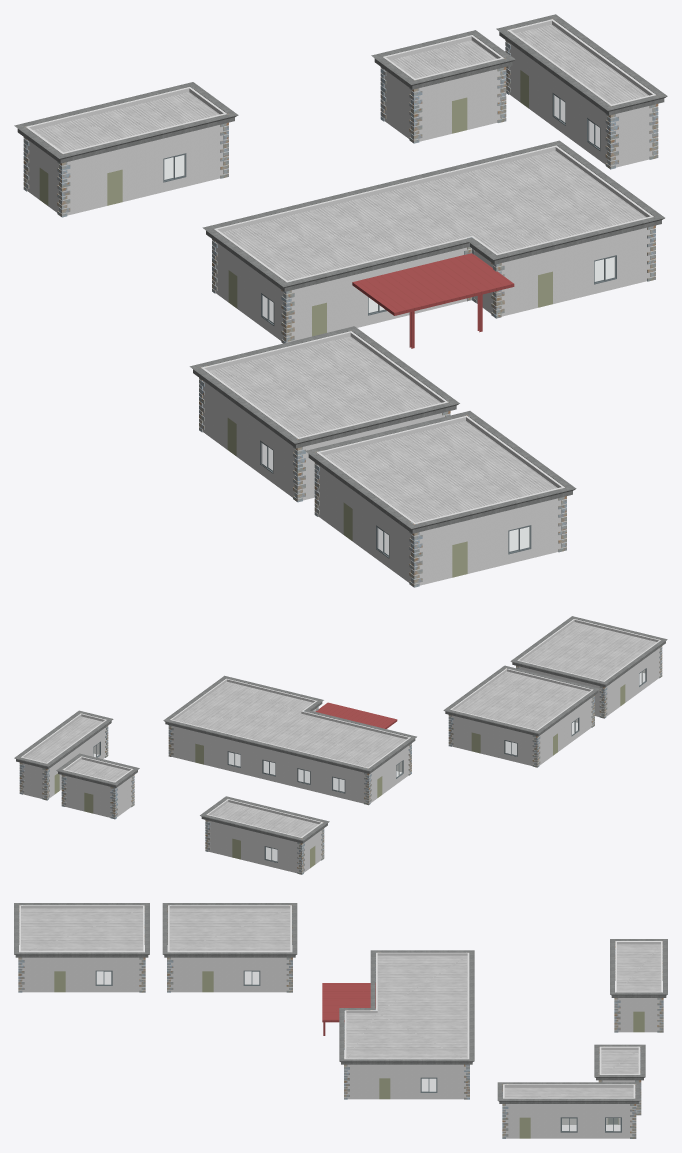
Rendered from Plan(REF)_levels(1)_window(W Sliding2 23_4)_wall(WAFRA WALL)_quoin(Y)_cornice(Y).fbx.
3 renders of one model, top to bottom at view 1: azimuth 30°, elevation 25°; view 2: azimuth 150°, elevation 25°; view 3: azimuth 270°, elevation 25°, orthographic. The views are drawn at different scales.
Visible parts, largest first — view 1: WAFRA Stucco - White Rough 23, WAFRA Roof - Corrugated Sheet Matte 23, Concrete - Structural, WAFRA Stone - Slate Natural 23, WAFRA Roof - Standing Seam Red Coat 23, Color - Beige, Glass - Clear, Metal - Finish - Aluminum, Color - White; view 2: WAFRA Stucco - White Rough 23, WAFRA Roof - Corrugated Sheet Matte 23, Concrete - Structural, WAFRA Stone - Slate Natural 23, Color - Beige, Glass - Clear, WAFRA Roof - Standing Seam Red Coat 23, Metal - Finish - Aluminum, Color - White; view 3: WAFRA Roof - Corrugated Sheet Matte 23, WAFRA Stucco - White Rough 23, Concrete - Structural, WAFRA Stone - Slate Natural 23, WAFRA Roof - Standing Seam Red Coat 23, Color - Beige, Glass - Clear, Metal - Finish - Aluminum, Color - White.
Part boxes in pixels (<box>): WAFRA Stucco - White Rough 23: <box>25,19,656,585</box>; WAFRA Roof - Corrugated Sheet Matte 23: <box>33,24,648,522</box>; Concrete - Structural: <box>14,14,667,533</box>; WAFRA Stone - Slate Natural 23: <box>23,18,658,587</box>; WAFRA Roof - Standing Seam Red Coat 23: <box>352,253,514,348</box>; Color - Beige: <box>39,70,552,577</box>; Glass - Clear: <box>164,95,614,554</box>; Metal - Finish - Aluminum: <box>163,93,616,558</box>; Color - White: <box>24,41,657,584</box>; WAFRA Stucco - White Rough 23: <box>21,619,661,873</box>; WAFRA Roof - Corrugated Sheet Matte 23: <box>25,622,656,836</box>; Concrete - Structural: <box>14,616,667,843</box>; WAFRA Stone - Slate Natural 23: <box>19,618,662,874</box>; Color - Beige: <box>54,684,625,868</box>; Glass - Clear: <box>94,670,644,861</box>; WAFRA Roof - Standing Seam Red Coat 23: <box>315,702,397,728</box>; Metal - Finish - Aluminum: <box>93,668,646,862</box>; Color - White: <box>20,647,661,872</box>; WAFRA Roof - Corrugated Sheet Matte 23: <box>21,908,660,1097</box>; WAFRA Stucco - White Rough 23: <box>19,905,662,1138</box>; Concrete - Structural: <box>14,903,667,1103</box>; WAFRA Stone - Slate Natural 23: <box>18,905,663,1138</box>; WAFRA Roof - Standing Seam Red Coat 23: <box>322,983,375,1035</box>; Color - Beige: <box>54,971,644,1138</box>; Glass - Clear: <box>97,971,620,1130</box>; Metal - Finish - Aluminum: <box>95,970,621,1132</box>; Color - White: <box>18,948,662,1136</box>.
Bounding box in the file's own units: 4244 × 5930 × 400.
Materials: 13 (6 with a texture image).
